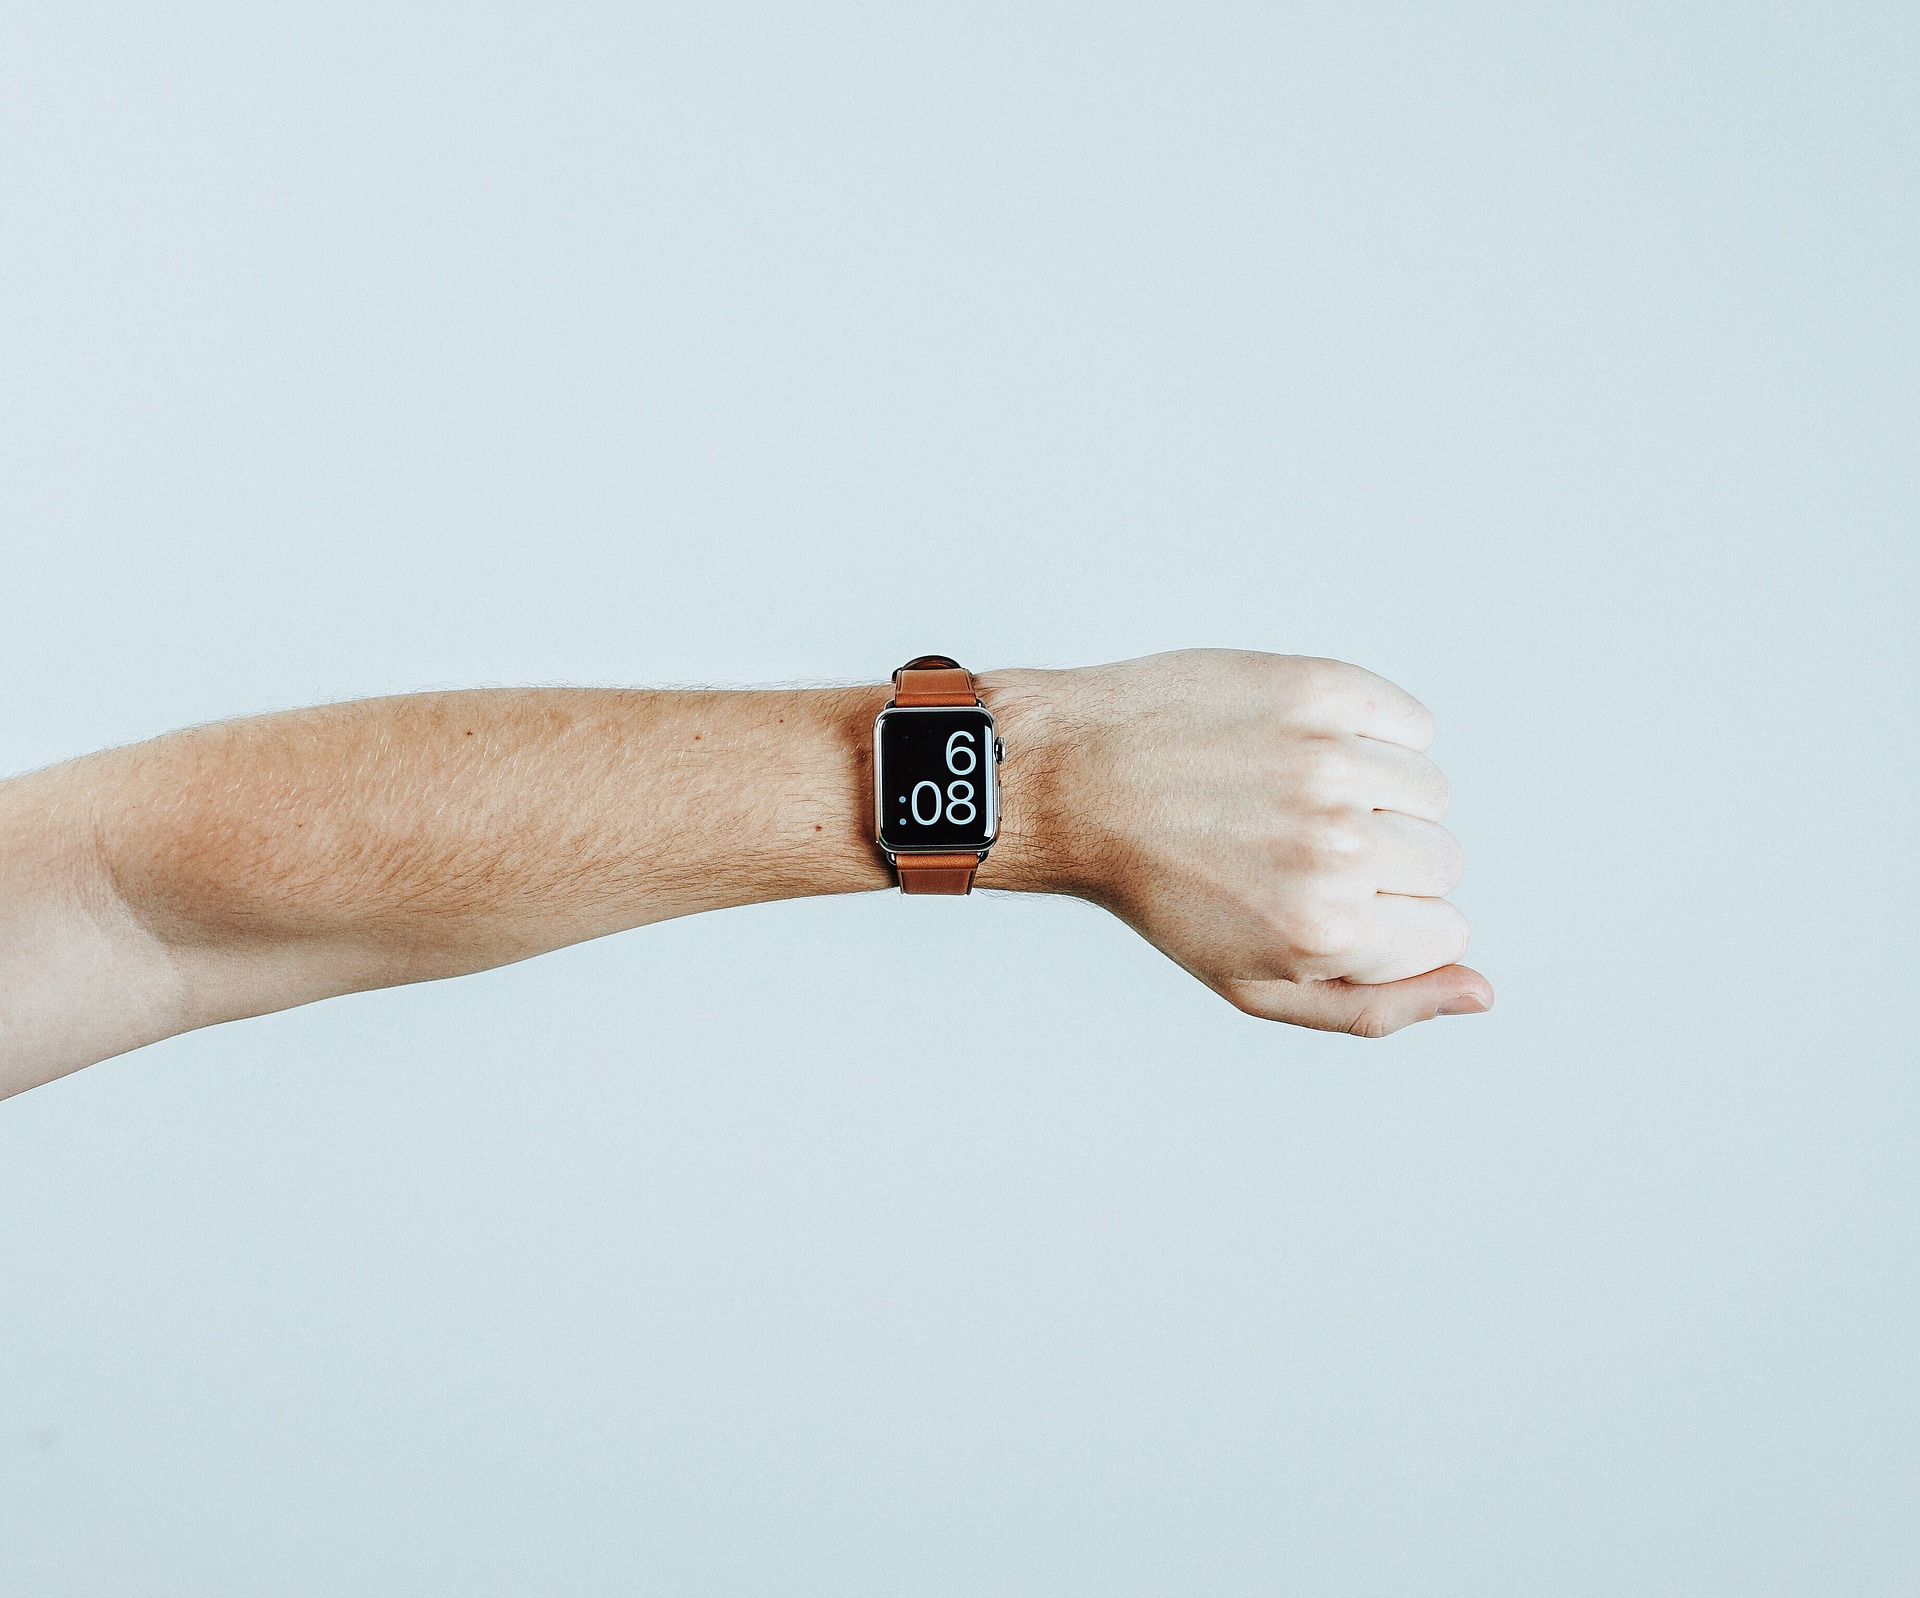fist: (1129, 606, 1525, 1072)
